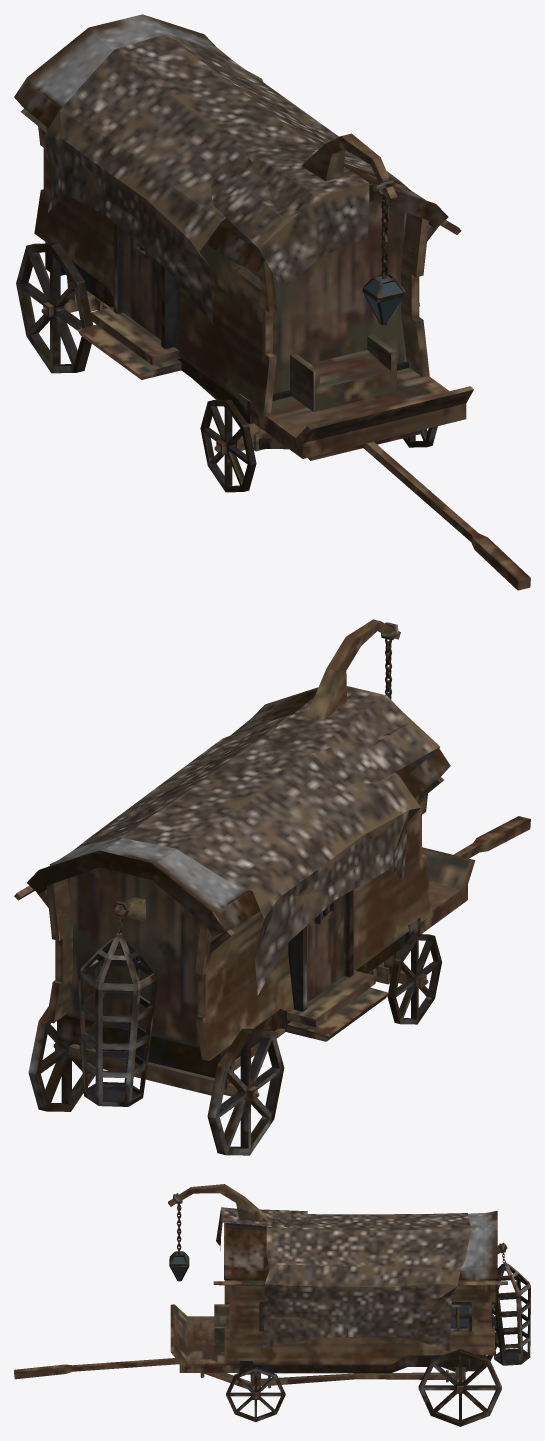
The model's file is Wagon.fbx.
3 views of the same model, one above another, from view 1: azimuth 30°, elevation 25°; view 2: azimuth 150°, elevation 25°; view 3: azimuth 270°, elevation 25° (orthographic). The views are drawn at different scales.
Parts seen in each view (by area): view 1: Wagon; view 2: Wagon; view 3: Wagon.
Boxes of the visible parts, box(x1,y1,x2,y2) form: Wagon: box(14, 14, 530, 590); Wagon: box(14, 619, 530, 1155); Wagon: box(14, 1184, 530, 1426).
Size of the model in its own units: 450 by 651 by 1429.
Materials: 3 (3 with a texture image).
